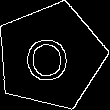O_N: (27, 29, 74, 83)
